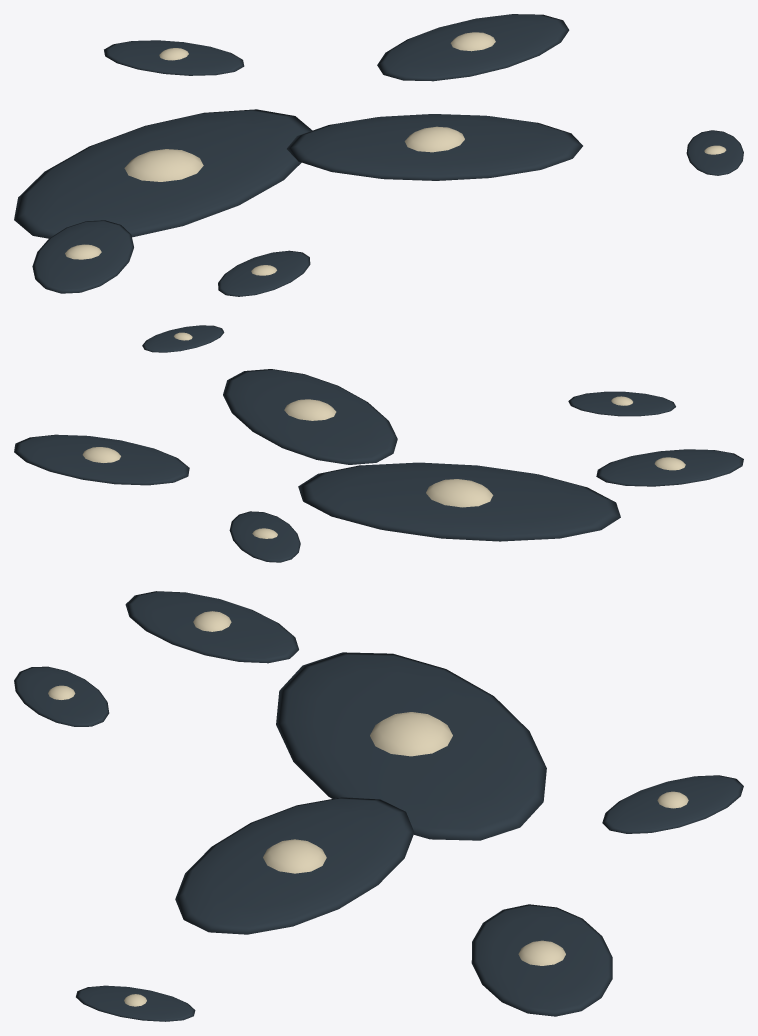
Rendered from galaxy_group.glb.
3 renders of one model, top to bottom at view 1: azimuth 30°, elevation 25°; view 2: azimuth 150°, elevation 25°; view 3: azimuth 270°, elevation 25°, orthographic. The views are drawn at different scales.
Parts seen in each view (by area): view 1: galaxy_group_textured_mesh; view 2: galaxy_group_textured_mesh; view 3: galaxy_group_textured_mesh.
Boxes of the visible parts, x1=… form: galaxy_group_textured_mesh: x1=14, y1=14, x2=743, y2=296; galaxy_group_textured_mesh: x1=14, y1=325, x2=743, y2=562; galaxy_group_textured_mesh: x1=14, y1=591, x2=743, y2=1021.
Bounding box in the file's own units: 3.39 × 0.234 × 2.57.
Materials: 1 (1 with a texture image).
